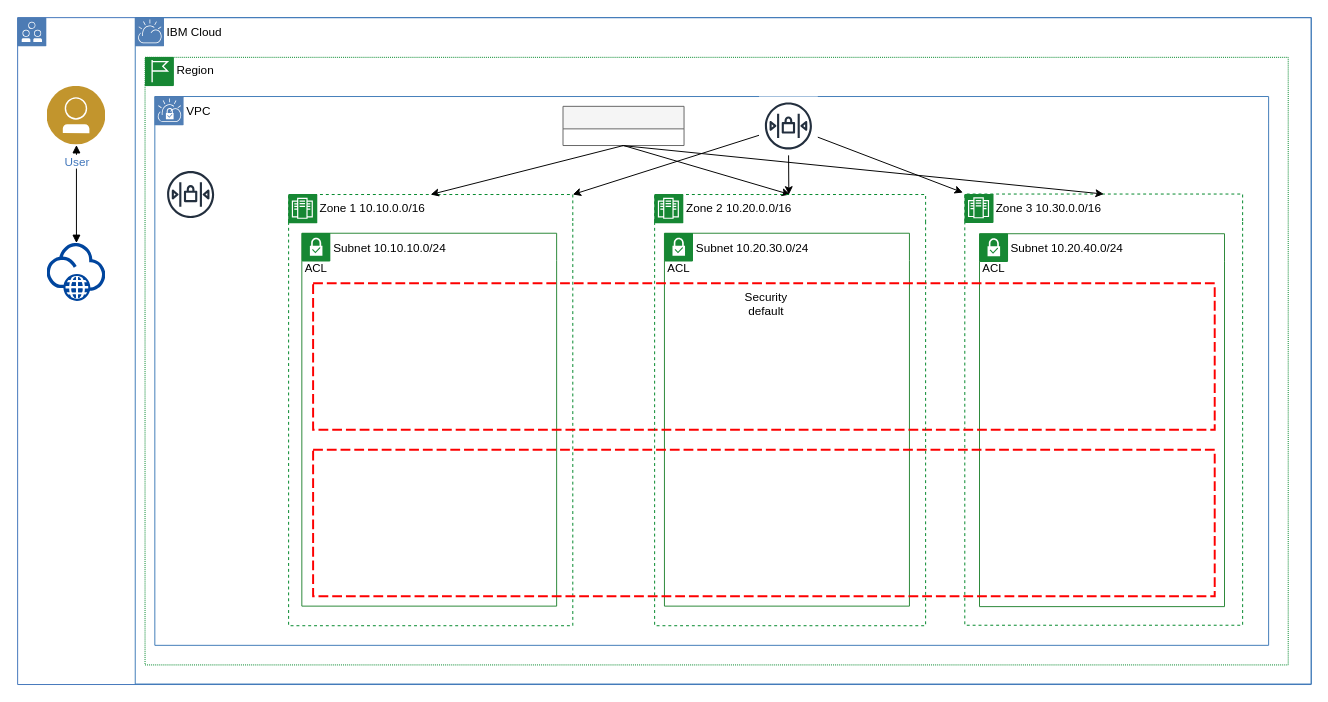
The diagram is 1328 pixels wide and 702 high, and some of its shapes have lost their labels. Here are the shapes that lost their labels. From the top down, the centre of each, then its label:
At (x=32, y=32): "Public Network".
At (x=623, y=125): "Routing Table".
At (x=788, y=125): "ACL subnet-default".
At (x=190, y=194): "ACL default".
At (x=76, y=272): "Internet".
At (x=763, y=522): "Security base".
